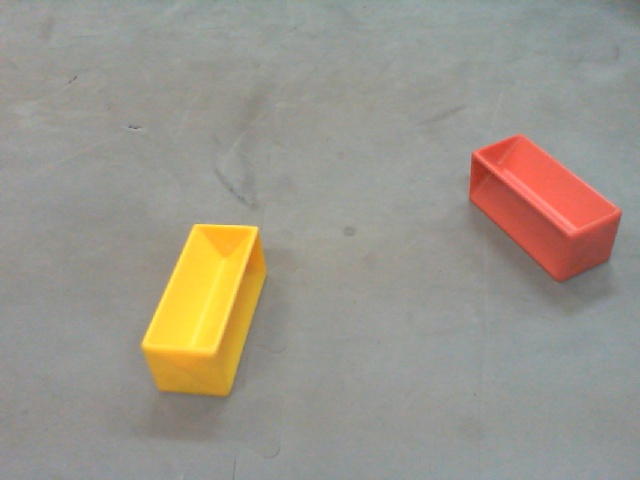RedSample: (468, 135, 627, 280)
YellowSample: (138, 221, 268, 401)
